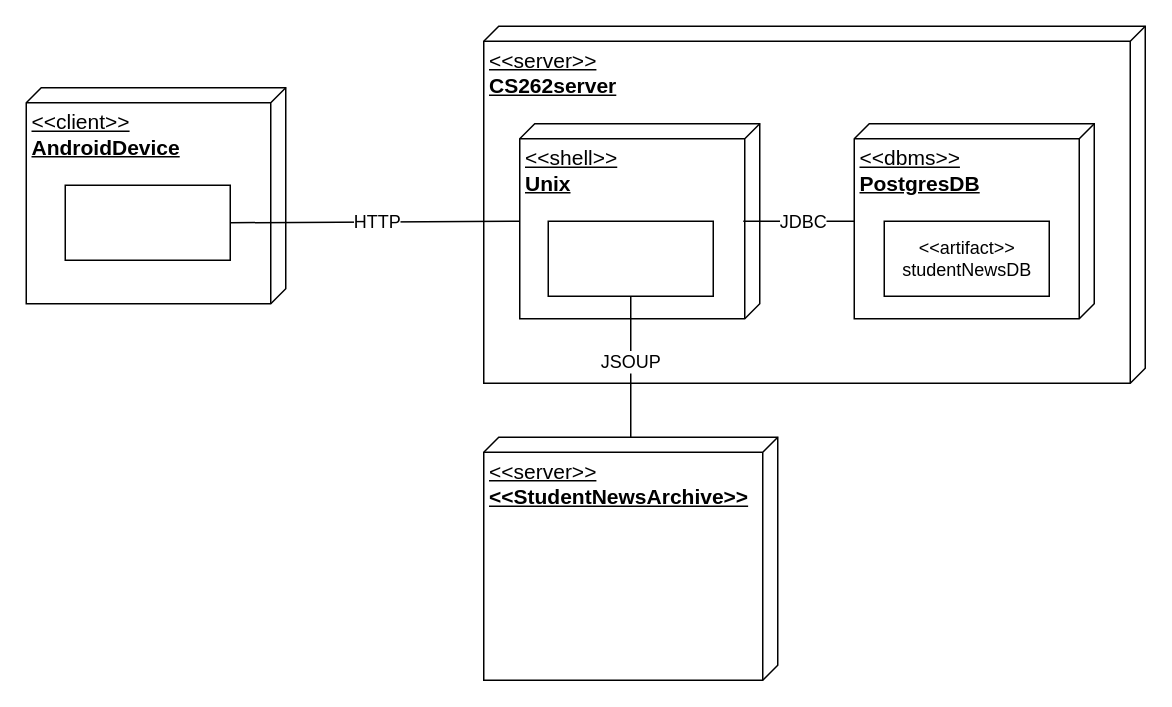
Some shapes in this 1172 by 707 pixel diagram are drawn without their labels. The shapes that lost their labels are listed below. From the top down, each one's centre as x and y in pixels, then its label:
At point (147, 222): "<<application>> KnowledgeShare".
At point (630, 258): "<<artifact>> Scraper".
